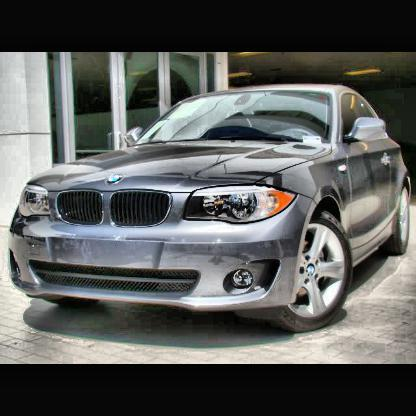BMW 1 Series Coupe 2012: (9, 73, 415, 349)
